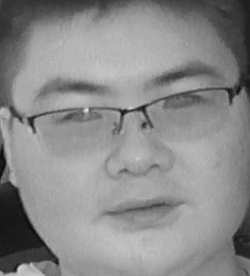eye: (160, 92, 202, 112), (64, 108, 106, 125)
glass: (141, 85, 232, 142), (29, 104, 124, 152)
mouth: (97, 194, 189, 229)
